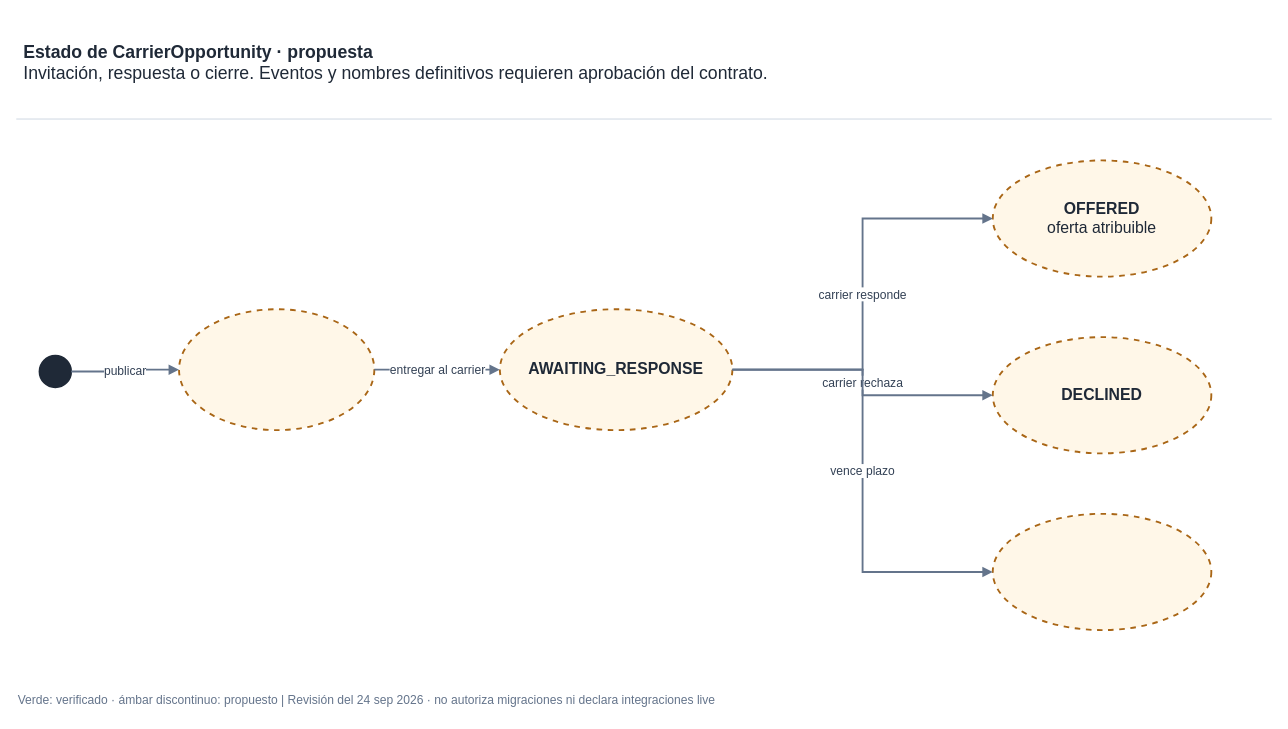
Some shapes in this 1288 by 729 pixel diagram are drawn without their labels. Here are the shapes that lost their labels. From the top down, the centre of each, then its label:
At point (276, 369): "INVITED".
At point (1101, 571): "EXPIRED".
